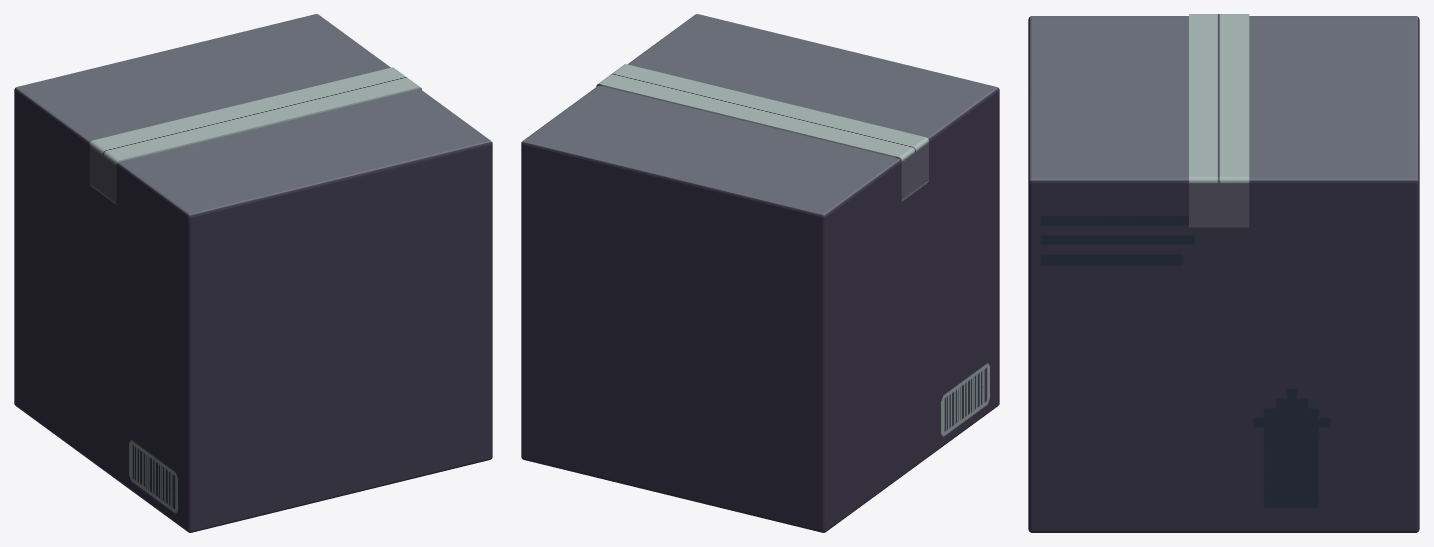
Rendered from cardboard box.fbx.
3 views of the same model, side by side, from view 1: azimuth 30°, elevation 25°; view 2: azimuth 150°, elevation 25°; view 3: azimuth 270°, elevation 25° (orthographic). The views are drawn at different scales.
Parts seen in each view (by area): view 1: Cube, Plane; view 2: Cube, Plane; view 3: Cube, Plane.
Part boxes in pixels (bbox=[...]): Cube: bbox=[14, 14, 492, 532]; Plane: bbox=[89, 67, 421, 204]; Cube: bbox=[521, 14, 999, 532]; Plane: bbox=[596, 64, 928, 201]; Cube: bbox=[1028, 16, 1419, 532]; Plane: bbox=[1189, 14, 1249, 227].
Bounding box in the file's own units: 200 × 201 × 200.
2 materials, 2 textured.
